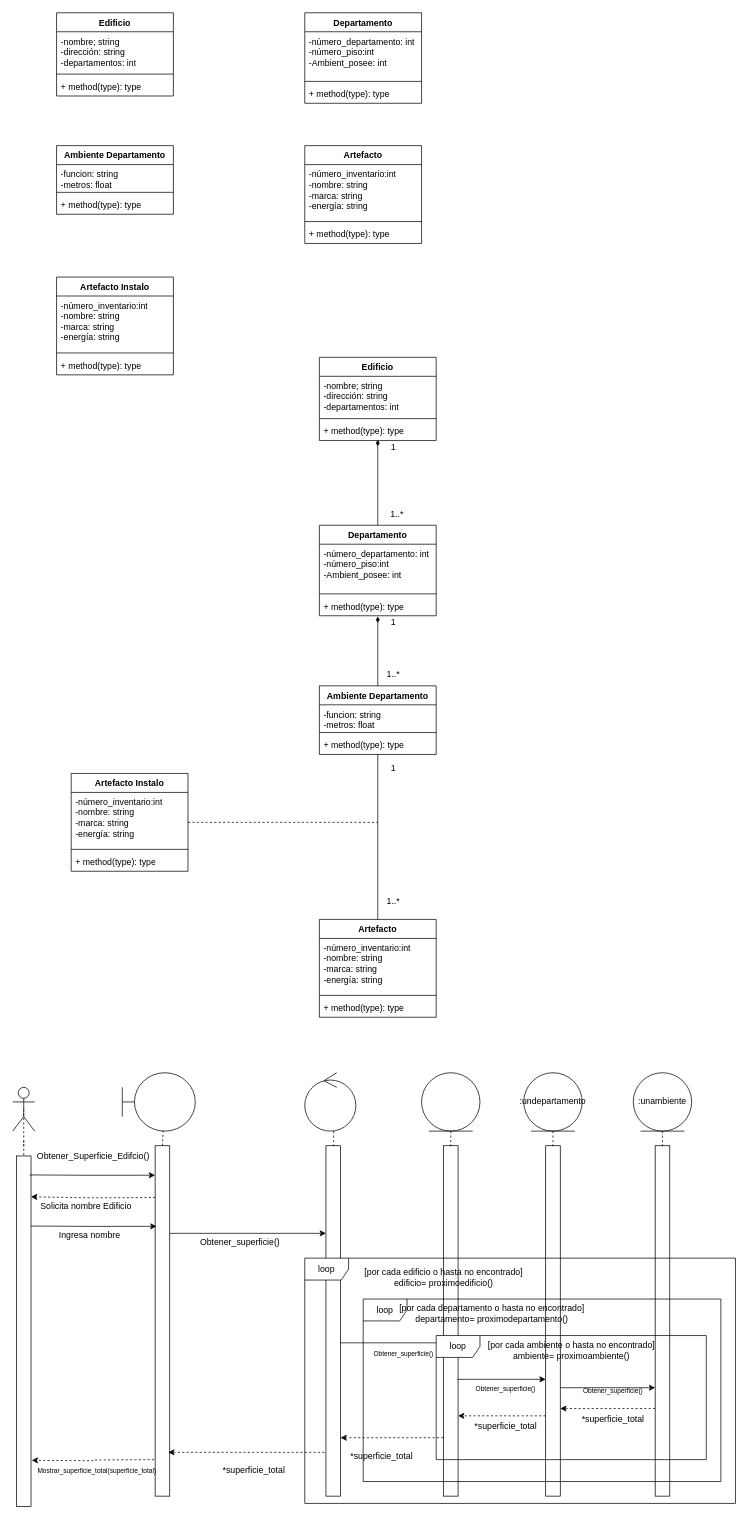
Image size: 748x1519. Some labels were removed from this diagram. The centre of each missing label's shape, as x and y in pixels:
":Gestor_Edifcio" belongs at pixel 330 1101.
":interfaz" belongs at pixel 158 1101.
":unEdifcio" belongs at pixel 450 1101.
"Actor" belongs at pixel 23 1109.
